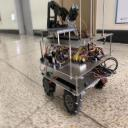cart: (35, 34, 114, 116)
